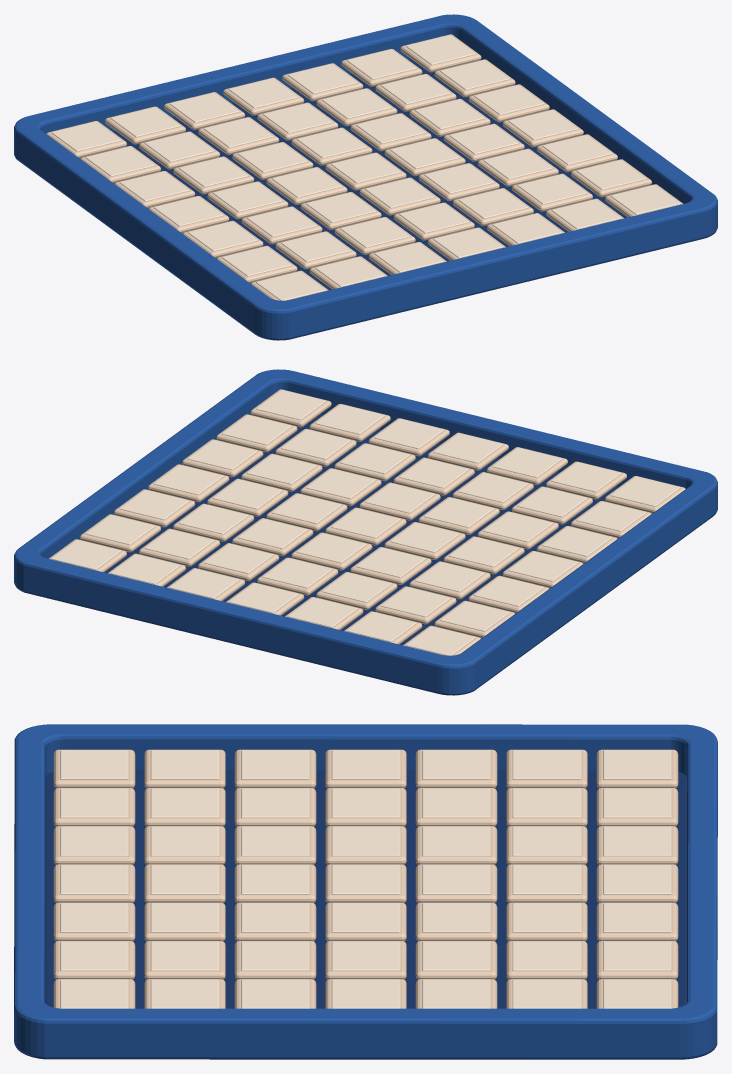
File: PR3D_Board_7x7.glb
The picture shows the model from 3 angles, top to bottom: view 1: azimuth 30°, elevation 25°; view 2: azimuth 150°, elevation 25°; view 3: azimuth 270°, elevation 25°; orthographic projection. The views are drawn at different scales.
Visible parts, largest first — view 1: PR3D003_Visual_CeramicHighlights, PR3D003_Visual_Frame, PR3D003_Visual_CeramicTiles, PR3D003_Visual_TrayBase; view 2: PR3D003_Visual_CeramicHighlights, PR3D003_Visual_Frame, PR3D003_Visual_CeramicTiles, PR3D003_Visual_TrayBase; view 3: PR3D003_Visual_CeramicHighlights, PR3D003_Visual_Frame, PR3D003_Visual_CeramicTiles, PR3D003_Visual_TrayBase.
Boxes of the visible parts, x1,y1,x2,y2 form: PR3D003_Visual_CeramicHighlights: (51, 35, 680, 300); PR3D003_Visual_Frame: (14, 14, 717, 340); PR3D003_Visual_CeramicTiles: (46, 34, 682, 300); PR3D003_Visual_TrayBase: (80, 59, 627, 290); PR3D003_Visual_CeramicHighlights: (51, 390, 680, 655); PR3D003_Visual_Frame: (14, 369, 717, 695); PR3D003_Visual_CeramicTiles: (49, 389, 685, 655); PR3D003_Visual_TrayBase: (104, 414, 652, 645); PR3D003_Visual_CeramicHighlights: (60, 750, 671, 1008); PR3D003_Visual_Frame: (14, 724, 717, 1059); PR3D003_Visual_CeramicTiles: (53, 749, 678, 1008); PR3D003_Visual_TrayBase: (44, 770, 687, 1008).
Size of the model in its own units: 7.78 by 0.56 by 7.78.
